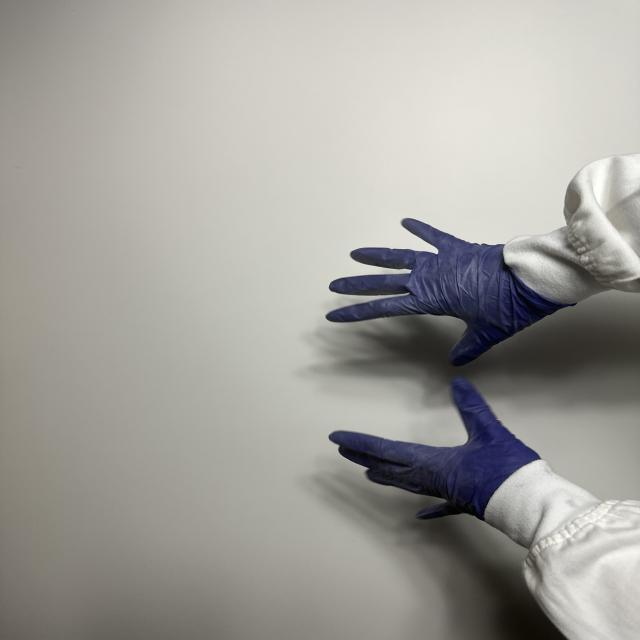gloves_contaminated: (326, 219, 570, 366), (329, 378, 540, 520)
